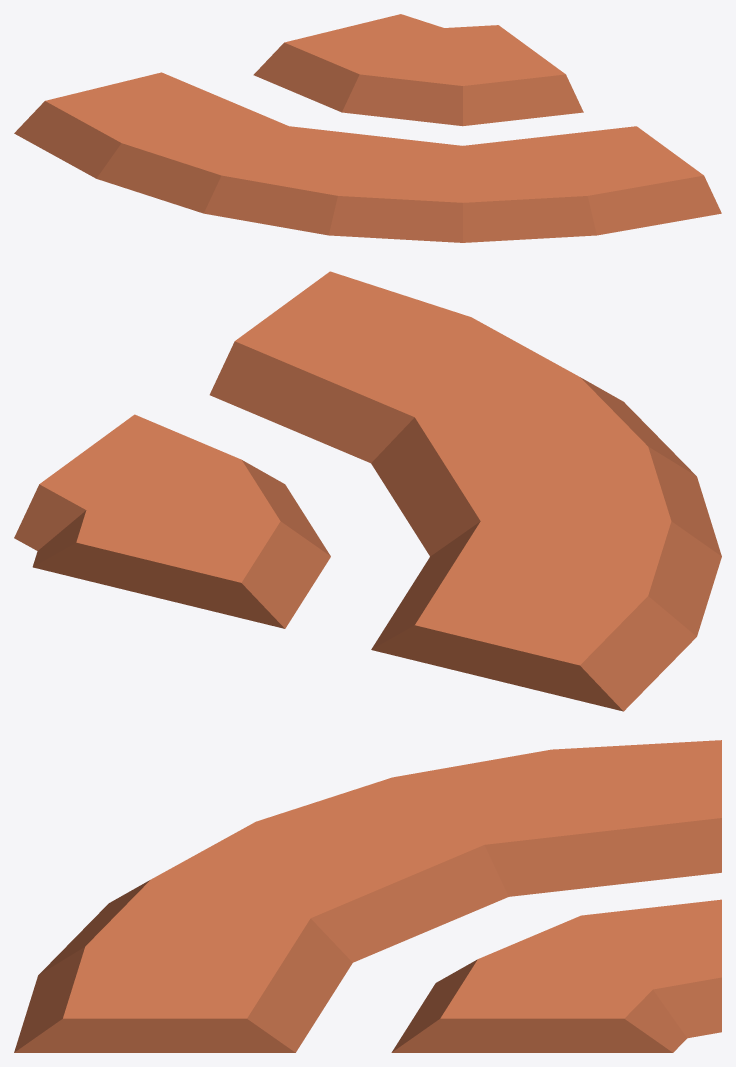
Rendered from crops_dirtDoubleRowCorner.obj.
3 views of the same model, one above another, from view 1: azimuth 30°, elevation 25°; view 2: azimuth 150°, elevation 25°; view 3: azimuth 270°, elevation 25° (orthographic). The views are drawn at different scales.
Parts seen in each view (by area): view 1: crops_dirtDoubleRowCorner; view 2: crops_dirtDoubleRowCorner; view 3: crops_dirtDoubleRowCorner.
Part boxes in pixels (x1,y1,x2,y2): crops_dirtDoubleRowCorner: (14, 14, 721, 242); crops_dirtDoubleRowCorner: (14, 271, 721, 711); crops_dirtDoubleRowCorner: (14, 740, 721, 1052).
Bounding box in the file's own units: 0.938 × 0.05 × 0.938.
